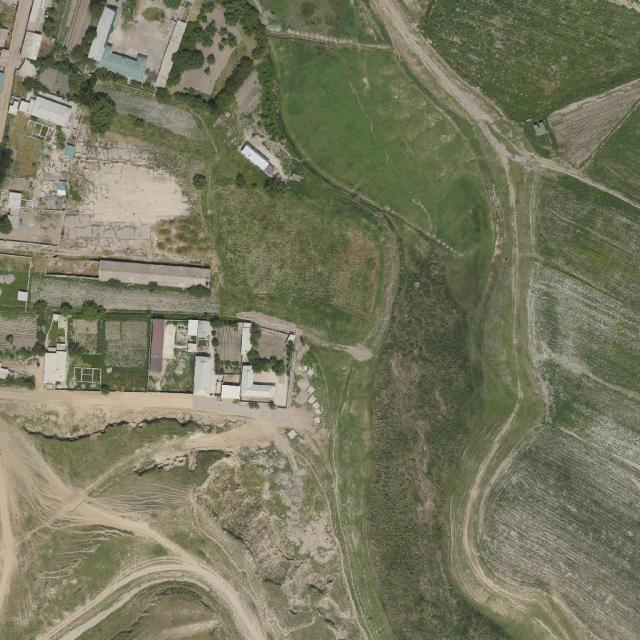agricultural_land: (460, 417, 640, 640), (203, 182, 400, 350), (530, 179, 640, 468), (429, 484, 597, 640), (59, 155, 192, 261), (28, 275, 220, 323), (544, 77, 640, 171), (105, 321, 148, 368), (9, 134, 44, 182), (101, 366, 148, 393), (255, 328, 289, 361), (70, 319, 100, 355), (215, 325, 241, 362), (215, 325, 241, 362), (73, 368, 102, 383), (219, 27, 238, 49)
building: (83, 3, 163, 83), (97, 258, 212, 290), (153, 18, 188, 91), (238, 140, 282, 180), (240, 364, 279, 404), (29, 94, 74, 128), (147, 319, 165, 372), (44, 349, 68, 385), (19, 29, 43, 62), (192, 355, 211, 396), (160, 323, 177, 360), (273, 373, 290, 408), (197, 320, 213, 340), (8, 190, 23, 208), (241, 327, 251, 354), (56, 180, 69, 198), (188, 319, 199, 336), (7, 100, 19, 115), (64, 144, 75, 159), (19, 100, 30, 113), (284, 334, 297, 345), (305, 367, 316, 378)
dryland: (59, 141, 193, 261)
greenland: (160, 18, 219, 95), (207, 53, 259, 116), (32, 55, 73, 97), (245, 349, 287, 376), (90, 92, 116, 134), (15, 129, 25, 132)
